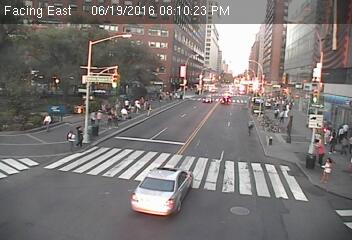neg: (118, 133, 139, 161), (21, 171, 41, 198), (22, 62, 40, 86), (295, 181, 313, 205), (230, 197, 247, 220), (169, 183, 186, 206), (53, 52, 70, 75), (177, 44, 194, 66), (310, 73, 326, 94), (237, 154, 253, 175), (87, 172, 102, 193), (132, 174, 147, 194), (284, 49, 299, 68), (145, 51, 159, 70), (89, 68, 103, 87), (46, 178, 60, 197), (210, 90, 224, 109), (285, 116, 299, 134), (70, 206, 84, 224), (266, 133, 279, 151), (217, 59, 230, 76), (191, 122, 204, 139), (249, 50, 261, 67), (159, 105, 170, 120), (303, 154, 314, 168), (130, 88, 138, 98)
pos: (320, 155, 340, 182), (312, 136, 330, 161), (40, 110, 58, 134), (72, 122, 89, 146), (61, 128, 77, 150), (243, 115, 257, 134)
